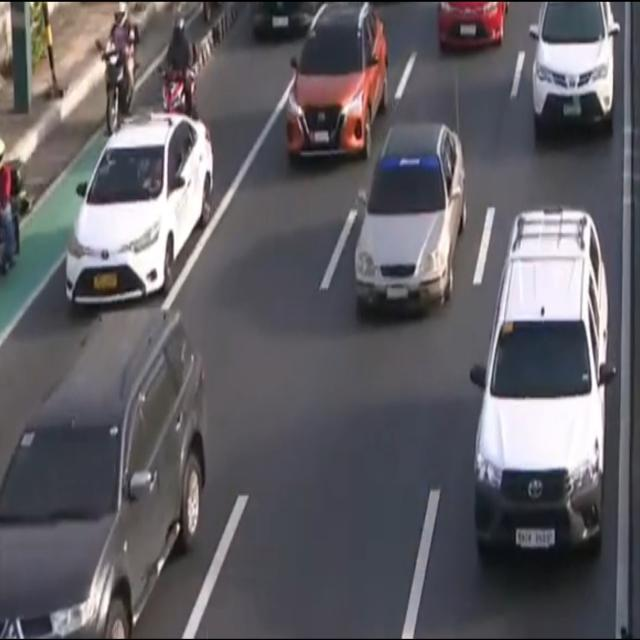Motorcycle: (98, 1, 140, 130), (156, 14, 208, 117)
SUV: (0, 306, 225, 640), (456, 195, 627, 580), (274, 1, 394, 172), (529, 0, 625, 142)
Sedan: (52, 101, 227, 325), (336, 107, 472, 354)
